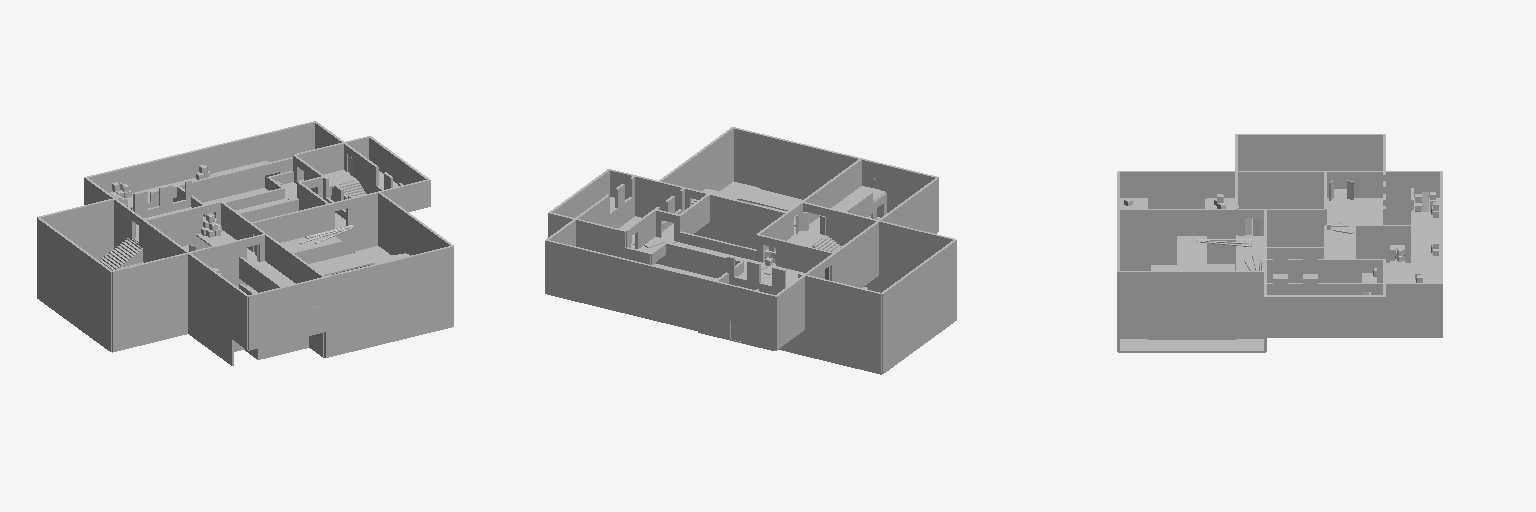
Rendered from myMaze.obj.
The picture shows the model from 3 angles: view 1: azimuth 30°, elevation 25°; view 2: azimuth 150°, elevation 25°; view 3: azimuth 270°, elevation 25°; orthographic projection.
Visible parts, largest first — view 1: myMaze:Mesh2; view 2: myMaze:Mesh2; view 3: myMaze:Mesh2.
Part boxes in pixels (x1,y1,x2,y2): myMaze:Mesh2: (37, 121, 453, 365); myMaze:Mesh2: (545, 127, 956, 374); myMaze:Mesh2: (1117, 134, 1442, 352).
Bounding box in the file's own units: 130 × 30.5 × 110.